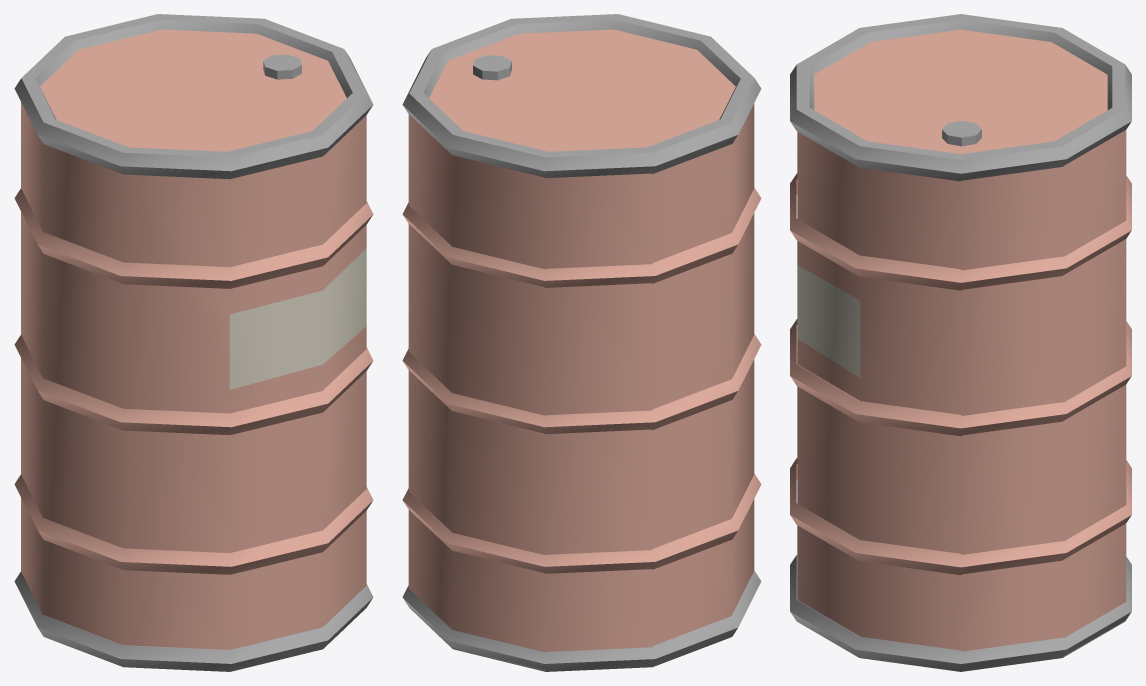
File: props9.fbx
The picture shows the model from 3 angles, left to right: view 1: azimuth 30°, elevation 25°; view 2: azimuth 150°, elevation 25°; view 3: azimuth 270°, elevation 25°; orthographic projection.
Visible parts, largest first — view 1: Torus_5; view 2: Torus_5; view 3: Torus_5.
Part boxes in pixels (left/top/right/bottom): Torus_5: left=14, top=14, right=373, bottom=671; Torus_5: left=402, top=14, right=761, bottom=671; Torus_5: left=790, top=14, right=1131, bottom=671.
Bounding box in the file's own units: 84.26 × 133 × 80.14.
